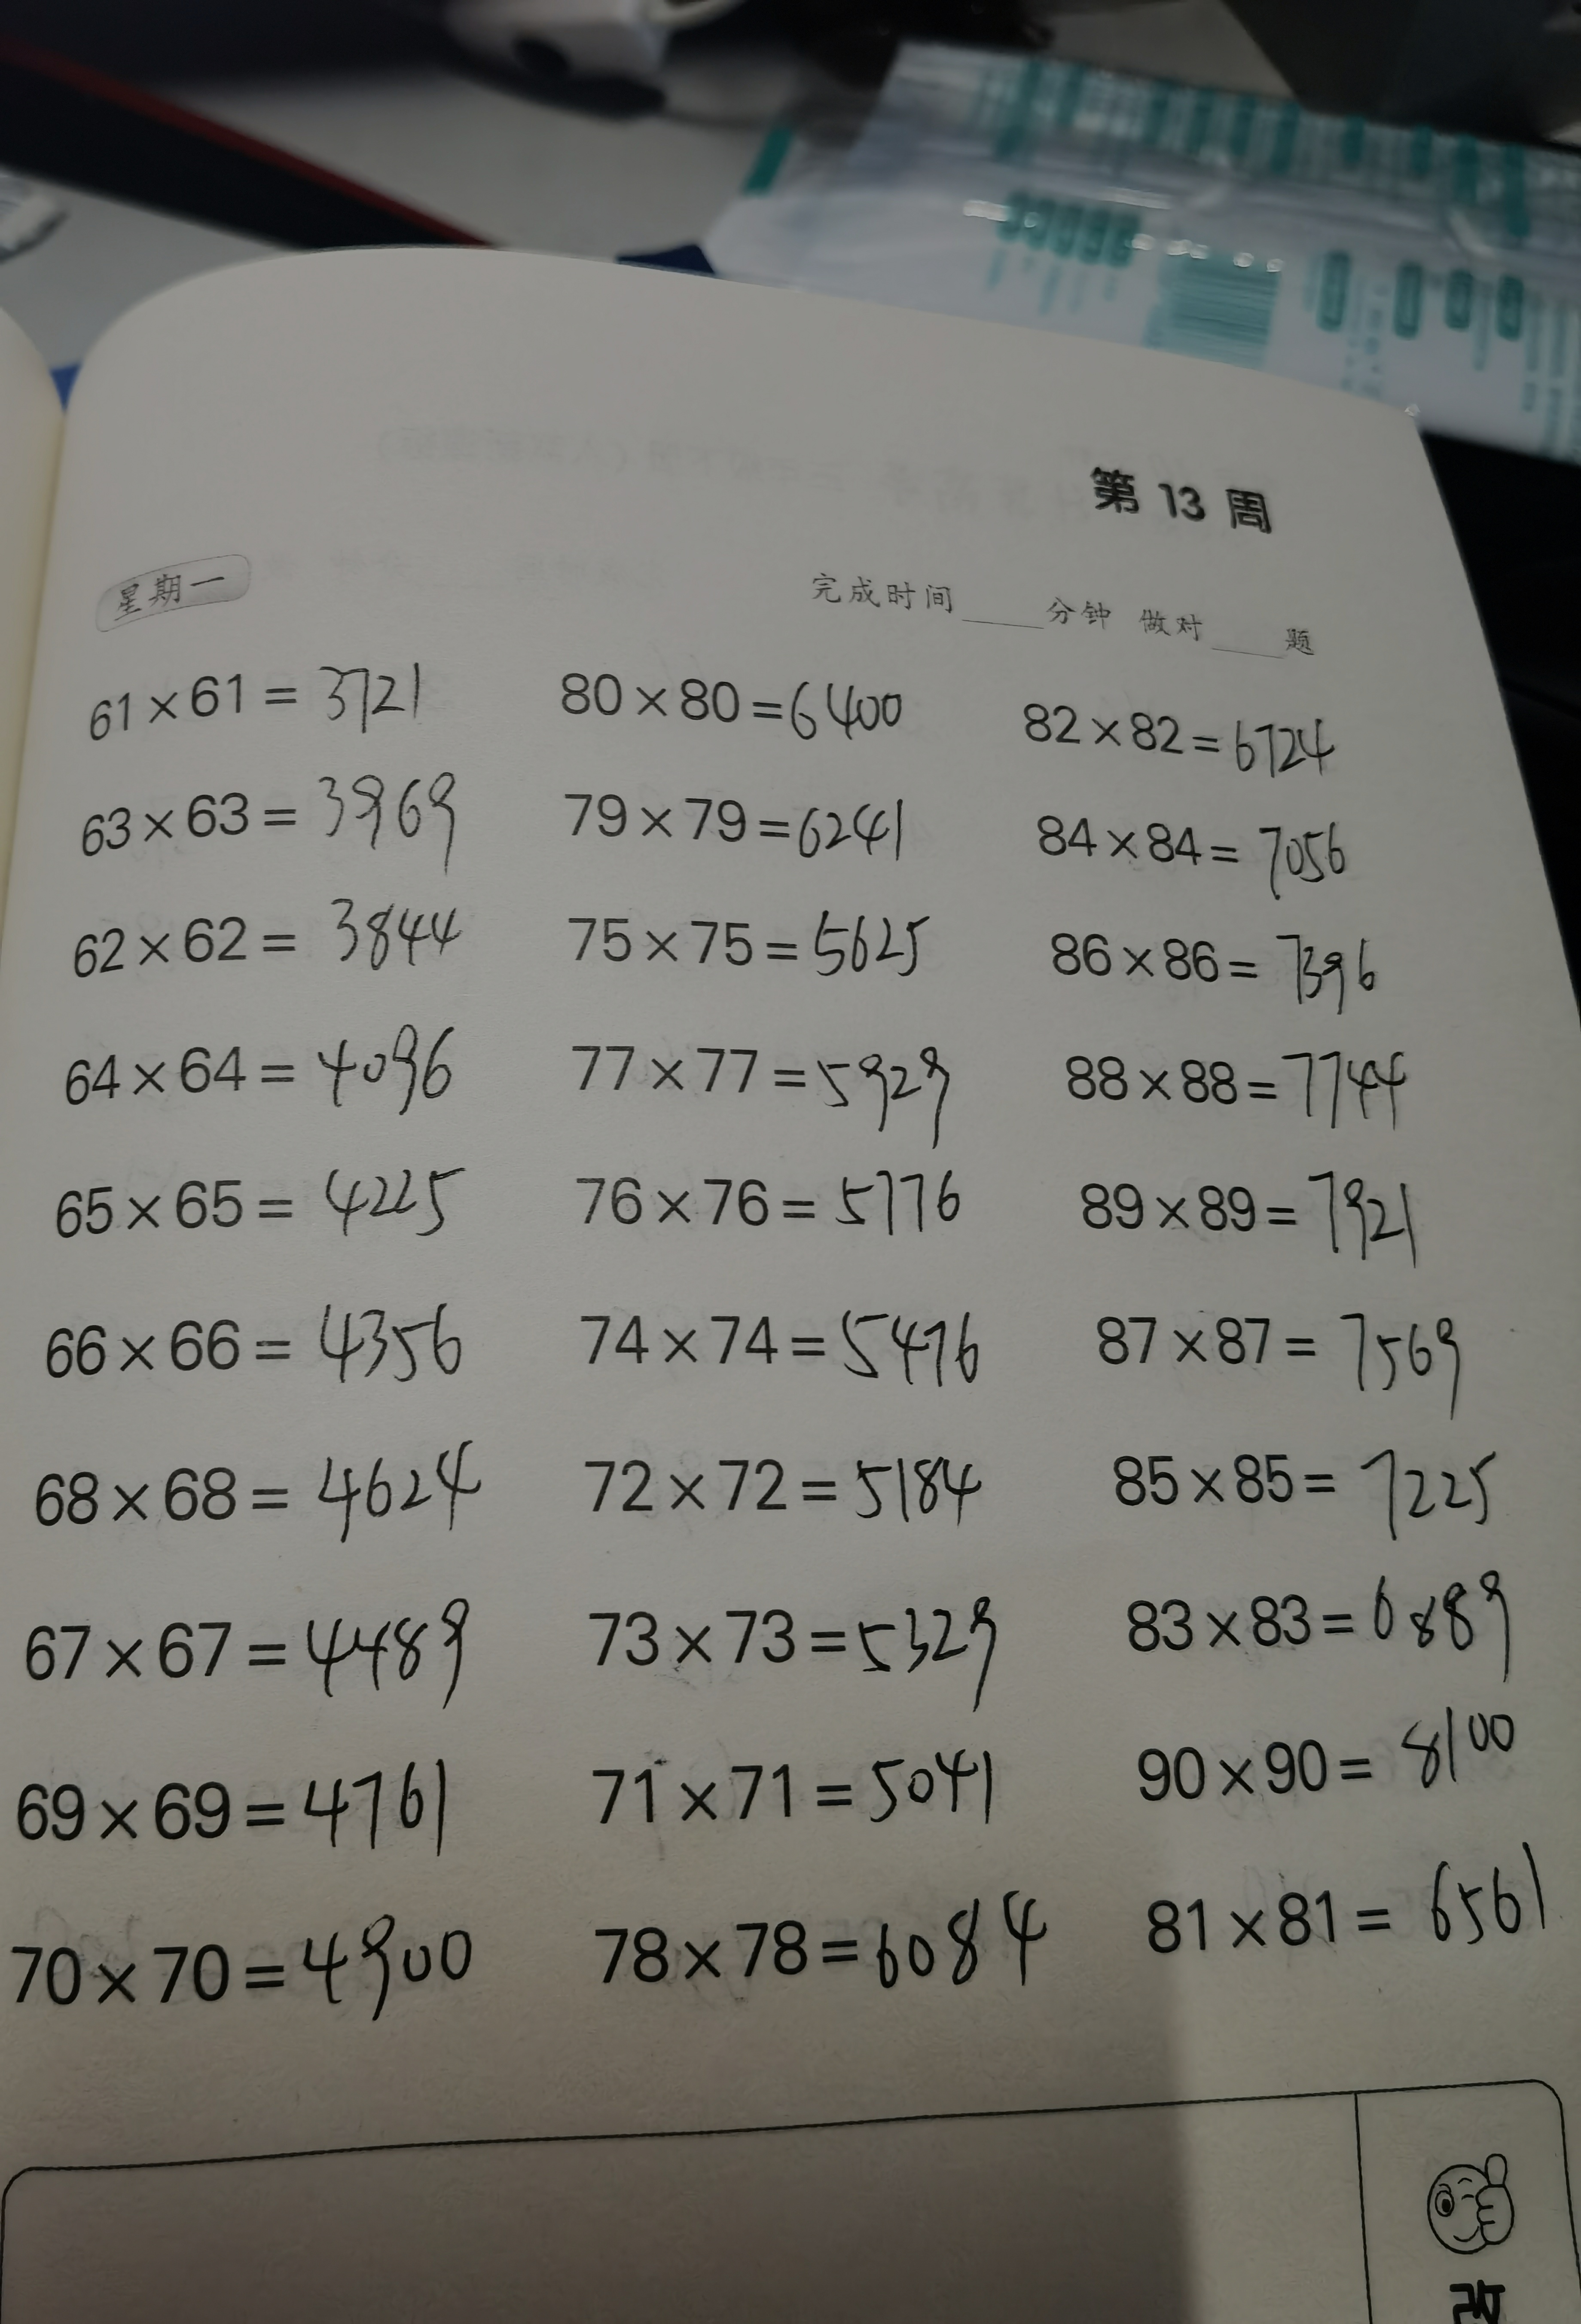equation: (1138, 1839, 1569, 1985), (581, 1893, 1064, 2022), (25, 1749, 485, 1879), (18, 1602, 494, 1724), (988, 663, 1387, 808), (552, 1031, 1004, 1158), (570, 1433, 1008, 1560), (577, 1590, 1027, 1713), (12, 1152, 487, 1269), (1108, 1556, 1535, 1685), (28, 1293, 496, 1408), (25, 1009, 464, 1129), (30, 1440, 501, 1551), (552, 896, 1011, 1006), (565, 1293, 1023, 1403), (1099, 1428, 1502, 1551), (18, 1922, 483, 2028), (572, 1745, 1030, 1851), (521, 637, 935, 753), (1087, 1302, 1482, 1422), (1069, 1168, 1475, 1285), (34, 884, 471, 992), (1113, 1710, 1537, 1821), (1053, 1034, 1450, 1147), (48, 753, 485, 856), (549, 1166, 988, 1265), (543, 769, 946, 877), (1050, 909, 1399, 1029), (1018, 812, 1389, 911), (44, 662, 461, 734)
